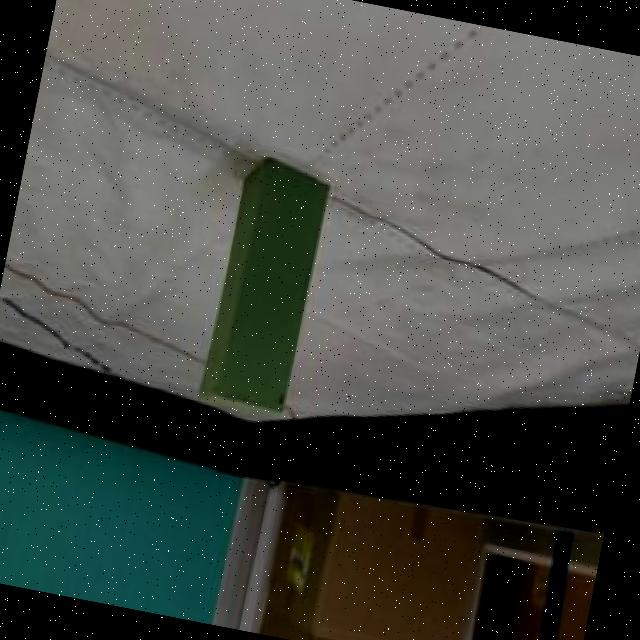greenbox: (196, 153, 334, 420)
